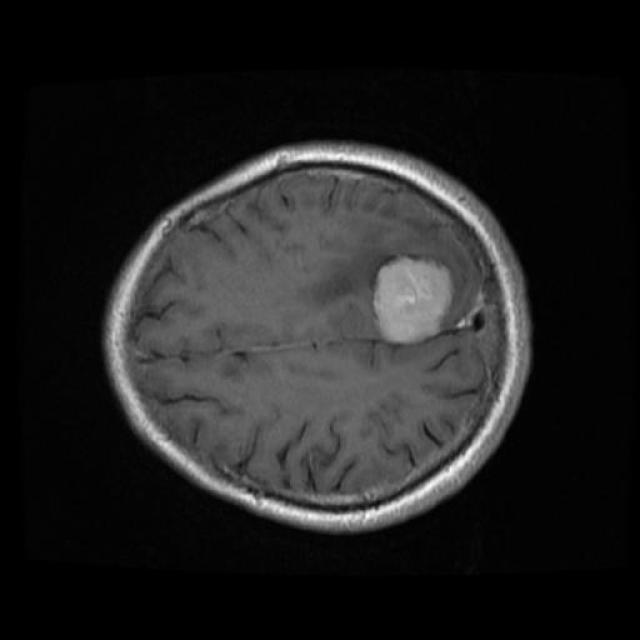Meningioma: (374, 256, 452, 343)
